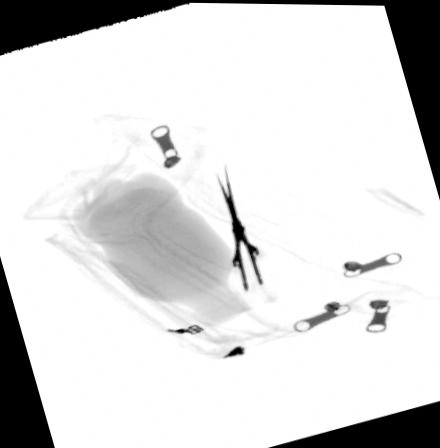Scissors: (214, 163, 287, 311)
